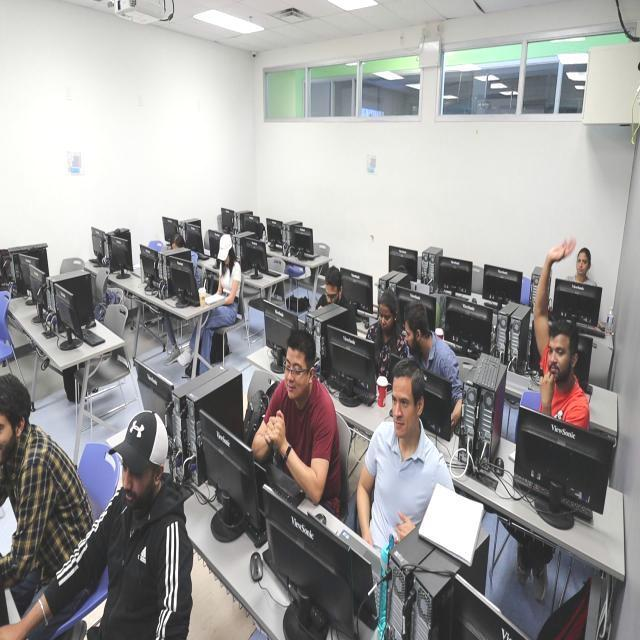Looking away: (122, 456, 154, 506), (404, 320, 422, 356), (378, 300, 396, 334), (324, 281, 340, 304)
Looking forward: (392, 375, 416, 438), (284, 346, 311, 400), (546, 334, 572, 381), (576, 250, 590, 276)
